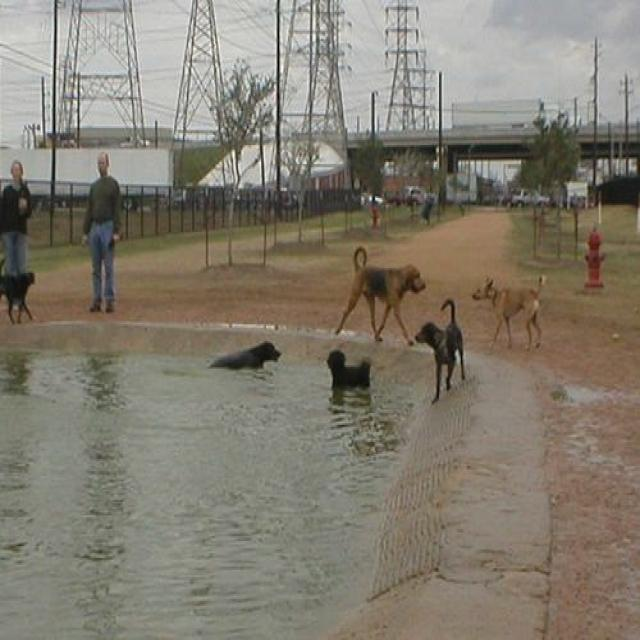bloodhound: (332, 242, 422, 344)
